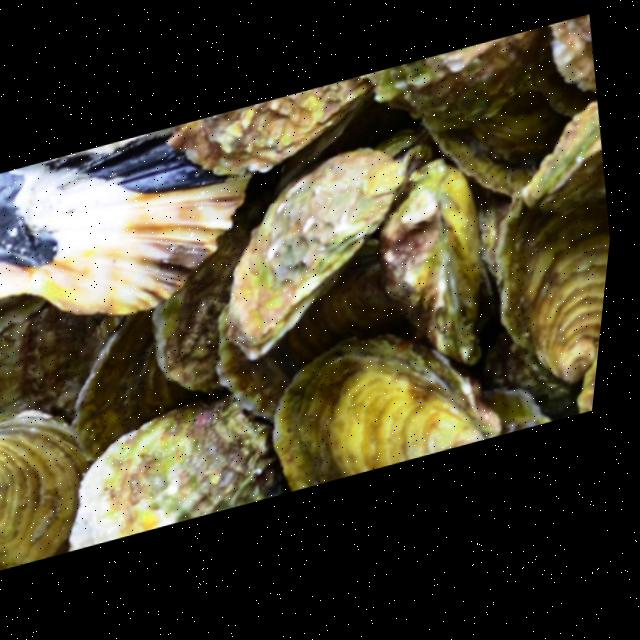Oyster-Closed: (0, 411, 88, 570), (473, 183, 516, 312), (376, 129, 430, 182)
Oyster-Indeterminate: (0, 127, 250, 314), (214, 243, 421, 421), (228, 150, 407, 353), (273, 337, 506, 490), (66, 395, 282, 552), (497, 101, 610, 376), (152, 176, 274, 390), (171, 74, 374, 180), (381, 161, 482, 366), (72, 311, 211, 457), (362, 29, 547, 121), (425, 90, 569, 194), (0, 306, 120, 419), (483, 332, 579, 415), (487, 390, 550, 431), (579, 350, 598, 412), (0, 301, 42, 329)
Oyster-Open: (529, 15, 597, 114)
